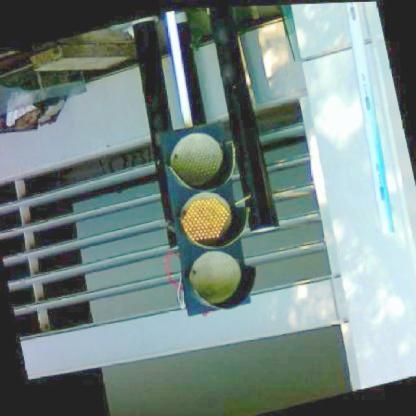Traffic Light -Yellow-: (150, 116, 266, 318)
